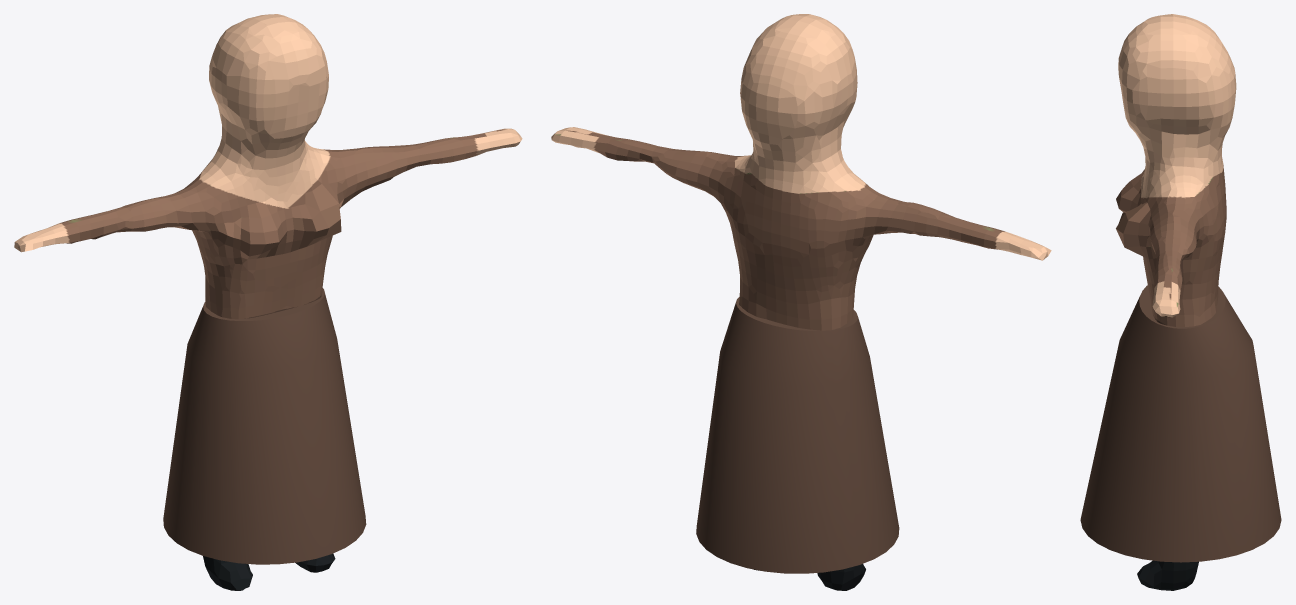
Rendered from woman_2.fbx.
3 renders of one model, left to right at view 1: azimuth 30°, elevation 25°; view 2: azimuth 150°, elevation 25°; view 3: azimuth 270°, elevation 25°, orthographic.
Parts seen in each view (by area): view 1: Woman_.002; view 2: Woman_.002; view 3: Woman_.002.
Boxes of the visible parts, box(x1,y1,x2,y2) form: Woman_.002: box(14, 14, 522, 590); Woman_.002: box(551, 14, 1051, 590); Woman_.002: box(1080, 14, 1281, 590).
Bounding box in the file's own units: 424 × 451 × 150.
Materials: 1 (1 with a texture image).
